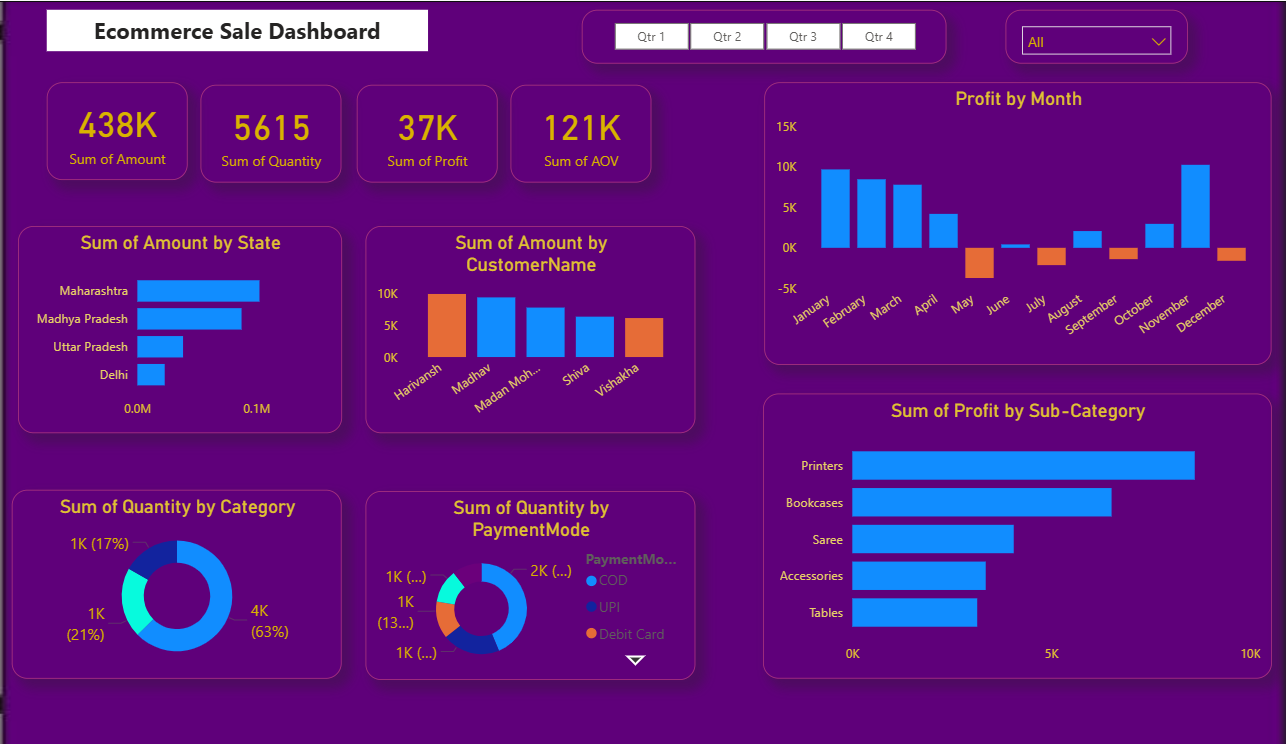

The page's visual inventory and layout, read from the dashboard file:
{"tool":"powerbi","page":{"name":"Page 1","canvas":[1280,720],"ordinal":0},"visuals":[{"type":"columnChart","title":"Profit by Month","fields":{"Category":["Orders.Order Date.Variation.Date Hierarchy.Month"],"Y":["Details.Profit"]},"box":[773.3,78.4,489.8,272.7],"z":0},{"type":"textbox","box":[80.8,8.4,368,39.8],"z":1000},{"type":"barChart","fields":{"Category":["Details.Sub-Category"],"Y":["Details.Profit"]},"box":[772.1,378.8,491,275.1],"z":2000},{"type":"donutChart","fields":{"Category":["Details.Category"],"Y":["Details.Quantity"]},"box":[47.1,471.7,318.5,182.2],"z":3000},{"type":"donutChart","fields":{"Category":["Details.PaymentMode"],"Y":["Details.Quantity"]},"box":[388.5,472.9,318.5,182.2],"z":4000},{"type":"card","fields":{"Values":["Details.Amount"]},"box":[80.8,78.4,136.3,94.1],"z":5000},{"type":"card","fields":{"Values":["Details.Quantity"]},"box":[229.2,80.8,136.3,94.1],"z":6000},{"type":"card","fields":{"Values":["Details.Profit"]},"box":[380,80.8,136.3,94.1],"z":7000},{"type":"card","fields":{"Values":["Details.AOV"]},"box":[528.4,80.8,136.3,94.1],"z":8000},{"type":"barChart","fields":{"Category":["Orders.State"],"Y":["Details.Amount"]},"box":[53.1,217.2,312.5,200.3],"z":9000},{"type":"columnChart","fields":{"Category":["Orders.CustomerName"],"Y":["Details.Amount"]},"box":[388.5,217.2,318.5,200.3],"z":10000},{"type":"slicer","fields":{"Values":["Orders.Order Date.Variation.Date Hierarchy.Quarter"]},"box":[597.2,8.4,352.3,51.9],"z":11000},{"type":"slicer","fields":{"Values":["Orders.State"]},"box":[1006.2,8.4,176.1,51.9],"z":12000}]}

Visuals, with their boxes on the page's 1280x720 design canvas (x1, y1, x2, y2). These are canvas units, not pixel positions in the 1286x744 screenshot, which may show the page scaled, cropped or inside an application window:
"Profit by Month" columnChart: box(773, 78, 1263, 351)
textbox: box(81, 8, 449, 48)
barChart - Details.Sub-Category x Details.Profit: box(772, 379, 1263, 654)
donutChart - Details.Category x Details.Quantity: box(47, 472, 366, 654)
donutChart - Details.PaymentMode x Details.Quantity: box(388, 473, 707, 655)
card - Details.Amount: box(81, 78, 217, 172)
card - Details.Quantity: box(229, 81, 366, 175)
card - Details.Profit: box(380, 81, 516, 175)
card - Details.AOV: box(528, 81, 665, 175)
barChart - Orders.State x Details.Amount: box(53, 217, 366, 418)
columnChart - Orders.CustomerName x Details.Amount: box(388, 217, 707, 418)
slicer - Orders.Order Date.Variation.Date Hierarchy.Quarter: box(597, 8, 950, 60)
slicer - Orders.State: box(1006, 8, 1182, 60)
